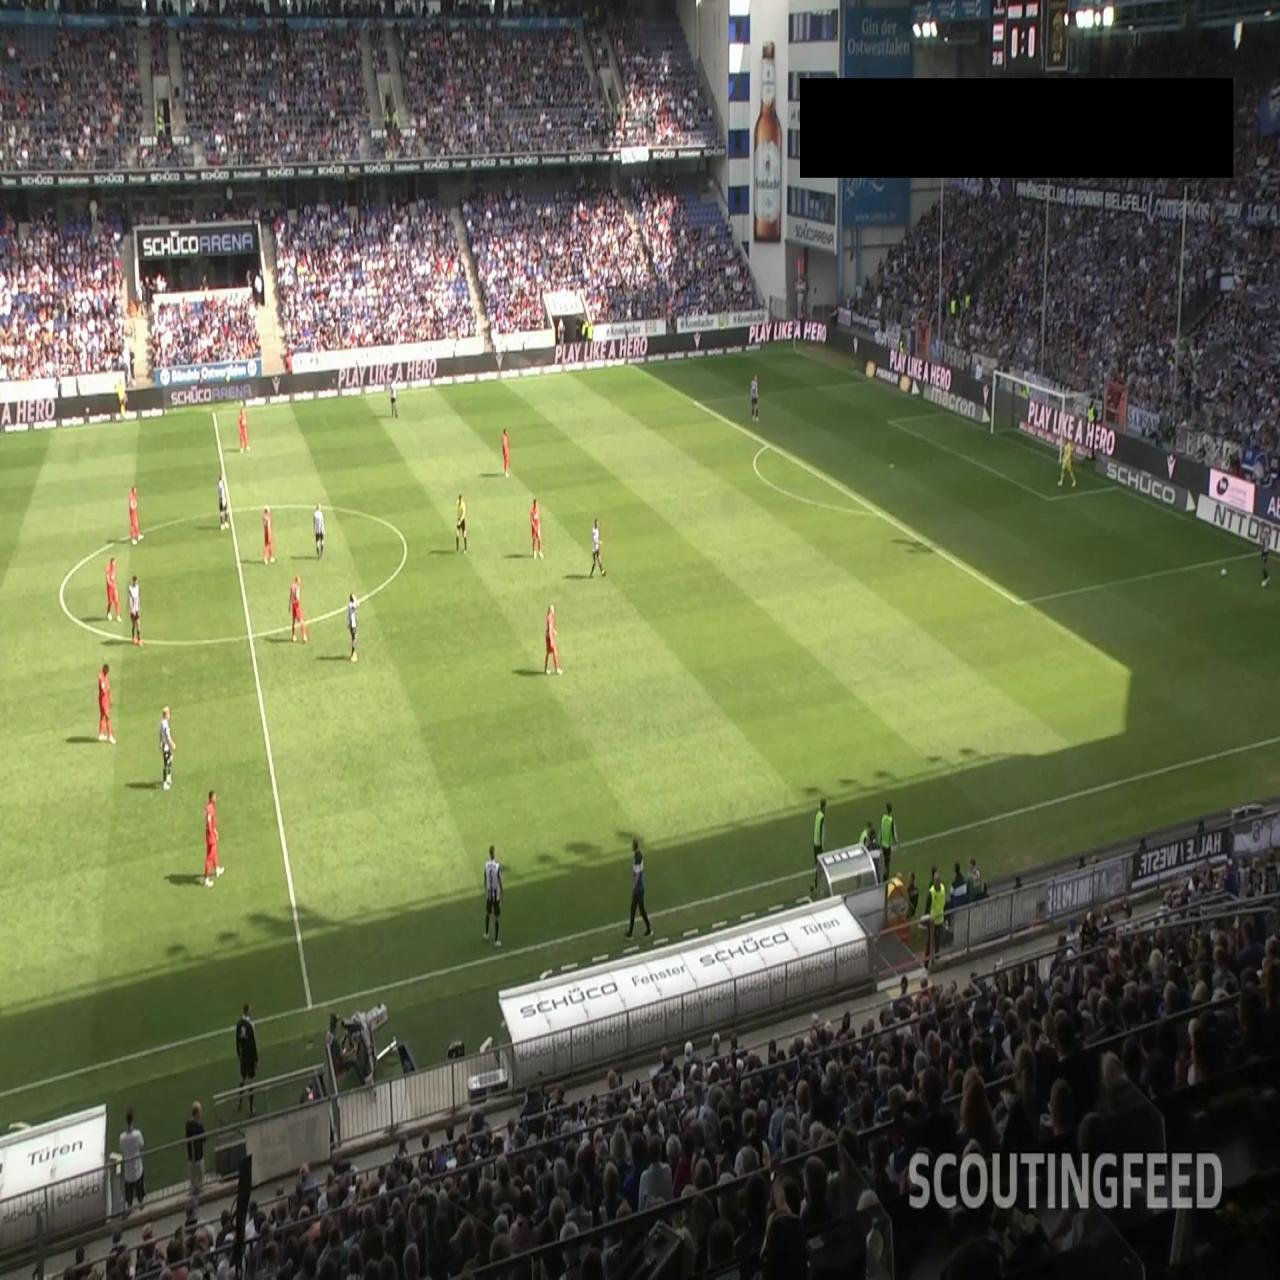ball: (1220, 566, 1227, 578)
goalkeeper: (1058, 434, 1078, 488)
player: (483, 844, 504, 946), (204, 790, 223, 886), (97, 662, 116, 744), (158, 706, 176, 790), (289, 574, 310, 644), (544, 603, 563, 676), (126, 483, 146, 549), (1257, 520, 1274, 590), (128, 574, 144, 647), (105, 556, 121, 622), (236, 402, 254, 456), (589, 518, 605, 577), (348, 592, 360, 662), (530, 496, 543, 560), (262, 506, 274, 565), (218, 473, 230, 531), (314, 502, 326, 560), (502, 427, 511, 478), (750, 373, 759, 421), (390, 377, 399, 418)
referee: (455, 492, 468, 553), (115, 373, 129, 422)
